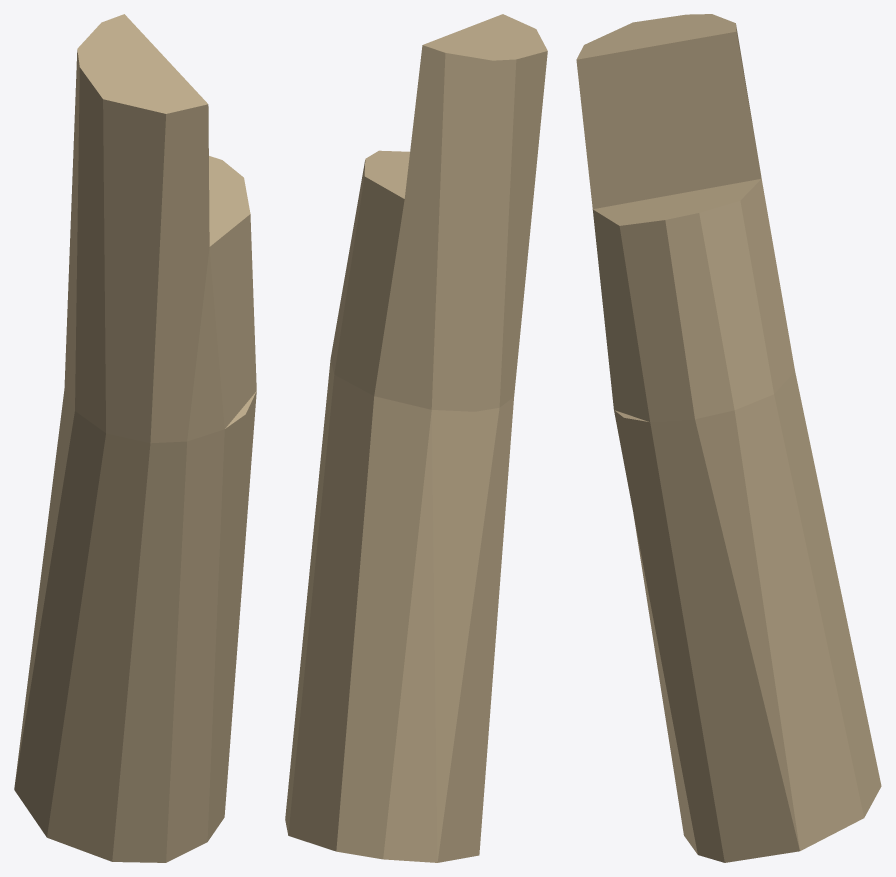
The model's file is log_cienki_zakladka.fbx.
3 views of the same model, side by side, from view 1: azimuth 30°, elevation 25°; view 2: azimuth 150°, elevation 25°; view 3: azimuth 270°, elevation 25° (orthographic). The views are drawn at different scales.
Parts seen in each view (by area): view 1: log_cienki_zakladka; view 2: log_cienki_zakladka; view 3: log_cienki_zakladka.
Part boxes in pixels (bbox=[...]): log_cienki_zakladka: bbox=[14, 14, 256, 862]; log_cienki_zakladka: bbox=[285, 14, 547, 862]; log_cienki_zakladka: bbox=[576, 14, 881, 862].
Bounding box in the file's own units: 20.59 × 88.88 × 30.83.
